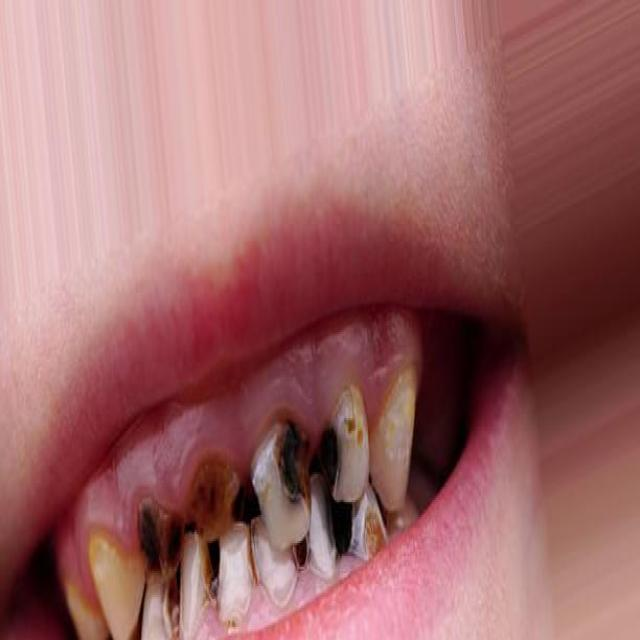caries: (250, 399, 312, 540), (188, 438, 245, 556), (317, 378, 368, 498), (134, 486, 184, 588), (347, 482, 394, 580), (159, 566, 195, 640)
